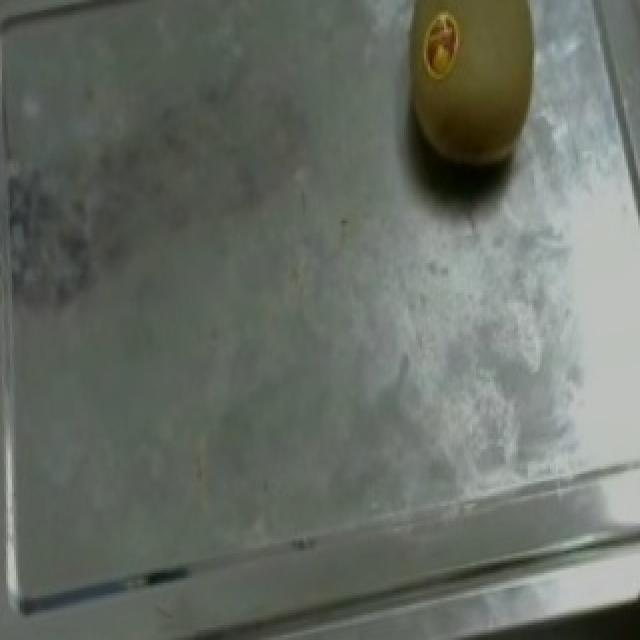Fruit: (372, 0, 572, 206)
